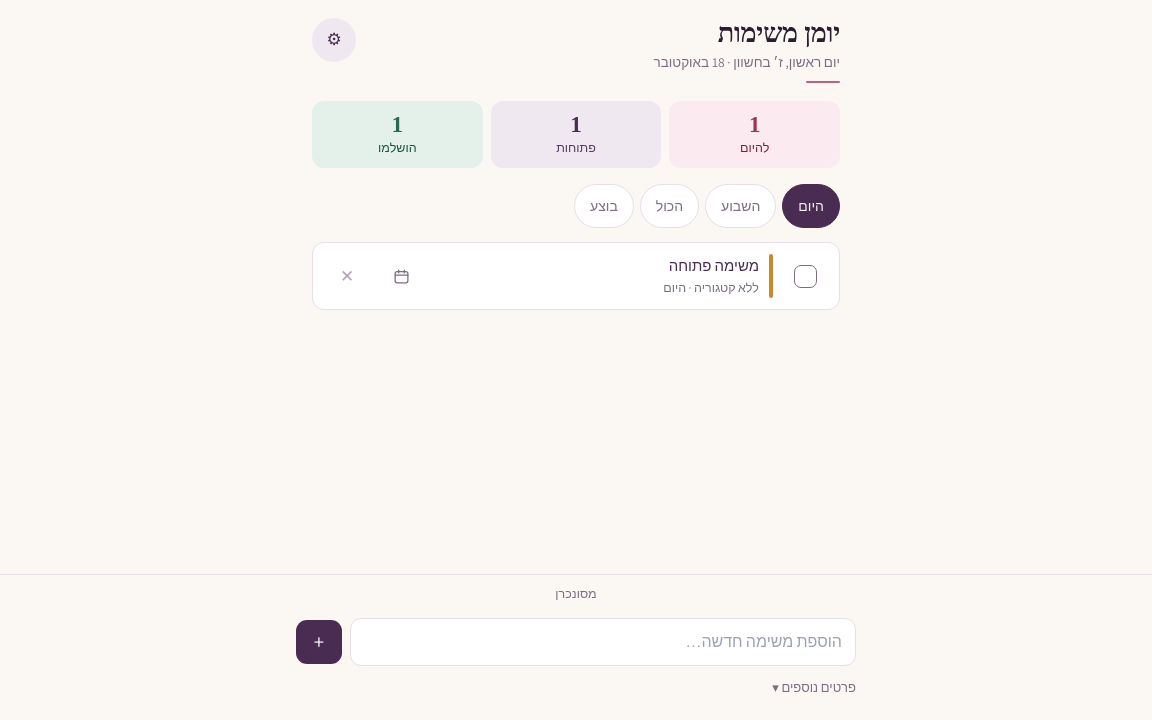
MainScreen › renders open tasks and switches tabs via the filter chips
Expected: the text "משימה פתוחה" is shown, [669,255,759,277]
Expected: the text "משימה גמורה" is not shown
Click the button "בוצע". click: x=604, y=206
box: [574,184,634,228]
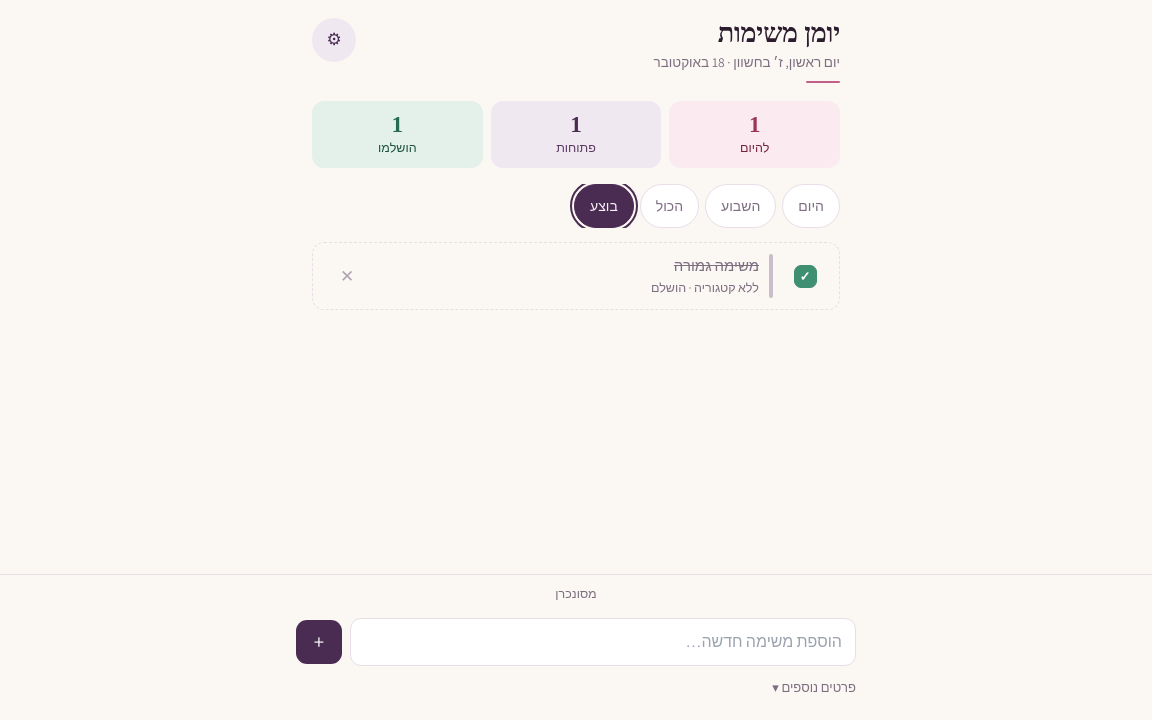
Now the text "משימה גמורה" is shown, box [674,255,759,277]
Now the button "משימה פתוחה" is gone
